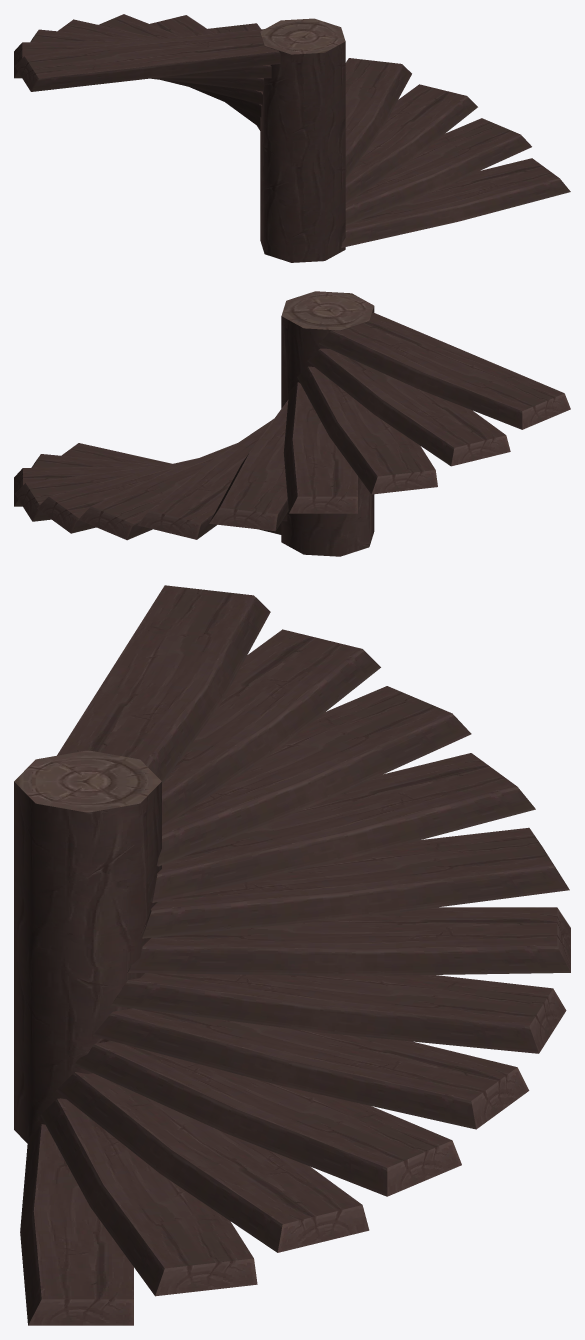
The picture shows the model from 3 angles, top to bottom: view 1: azimuth 30°, elevation 25°; view 2: azimuth 150°, elevation 25°; view 3: azimuth 270°, elevation 25°; orthographic projection. The views are drawn at different scales.
Size of the model in its own units: 4.62 by 1.85 by 2.68.
Materials: 2 (2 with a texture image).
